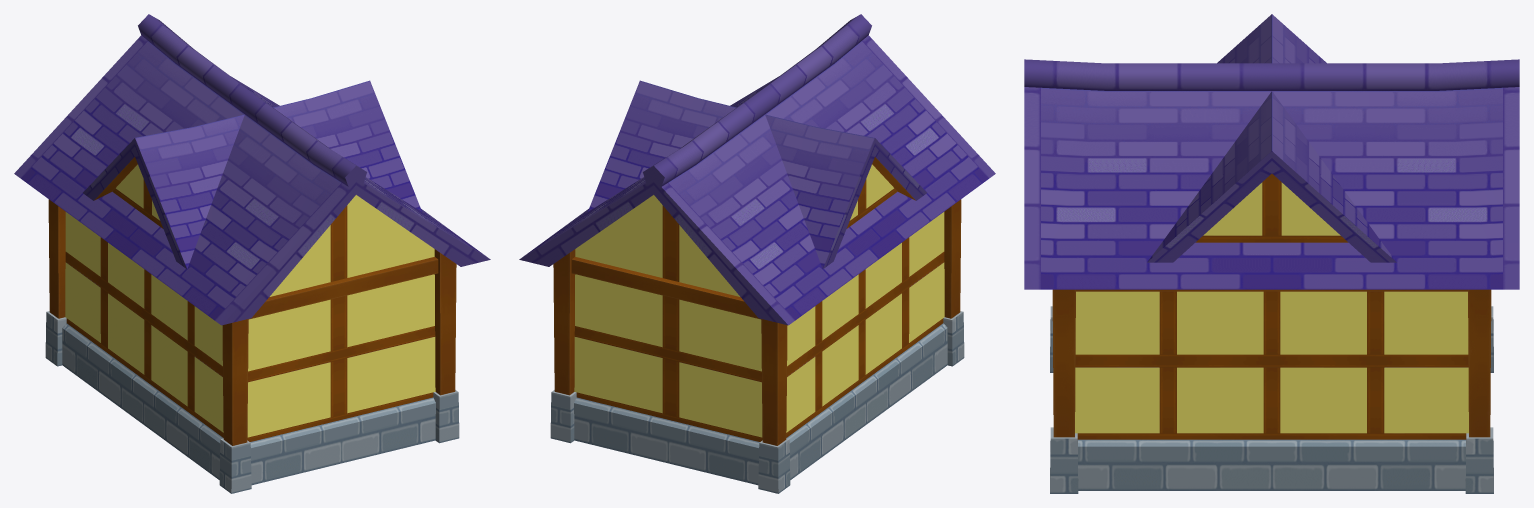
Rendered from BLD0310030.fbx.
3 views of the same model, side by side, from view 1: azimuth 30°, elevation 25°; view 2: azimuth 150°, elevation 25°; view 3: azimuth 270°, elevation 25° (orthographic). The views are drawn at different scales.
Parts seen in each view (by area): view 1: smBLD0310030; view 2: smBLD0310030; view 3: smBLD0310030.
Boxes of the visible parts, bbox=[...] form: smBLD0310030: bbox=[14, 14, 490, 493]; smBLD0310030: bbox=[519, 14, 995, 493]; smBLD0310030: bbox=[1024, 14, 1519, 493].
Bounding box in the file's own units: 130 × 142 × 173.
1 material, 1 textured.
